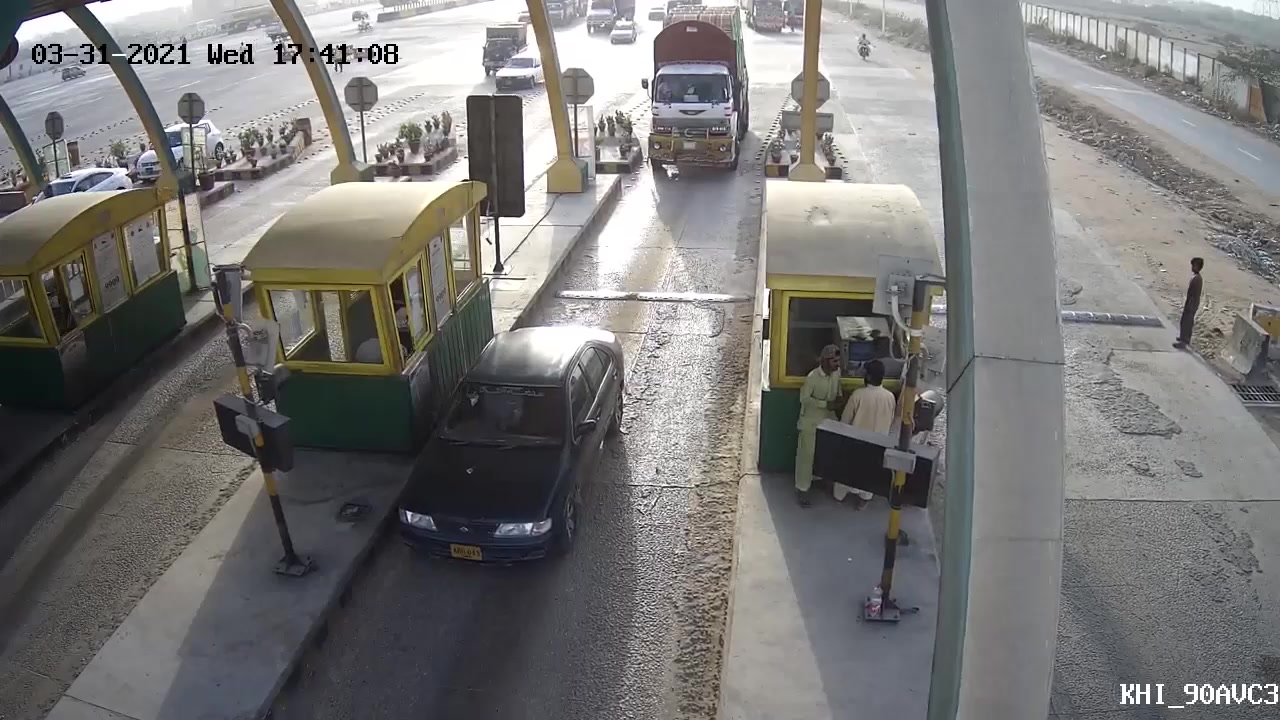F1: (378, 320, 625, 574)
F5: (640, 2, 756, 179)
